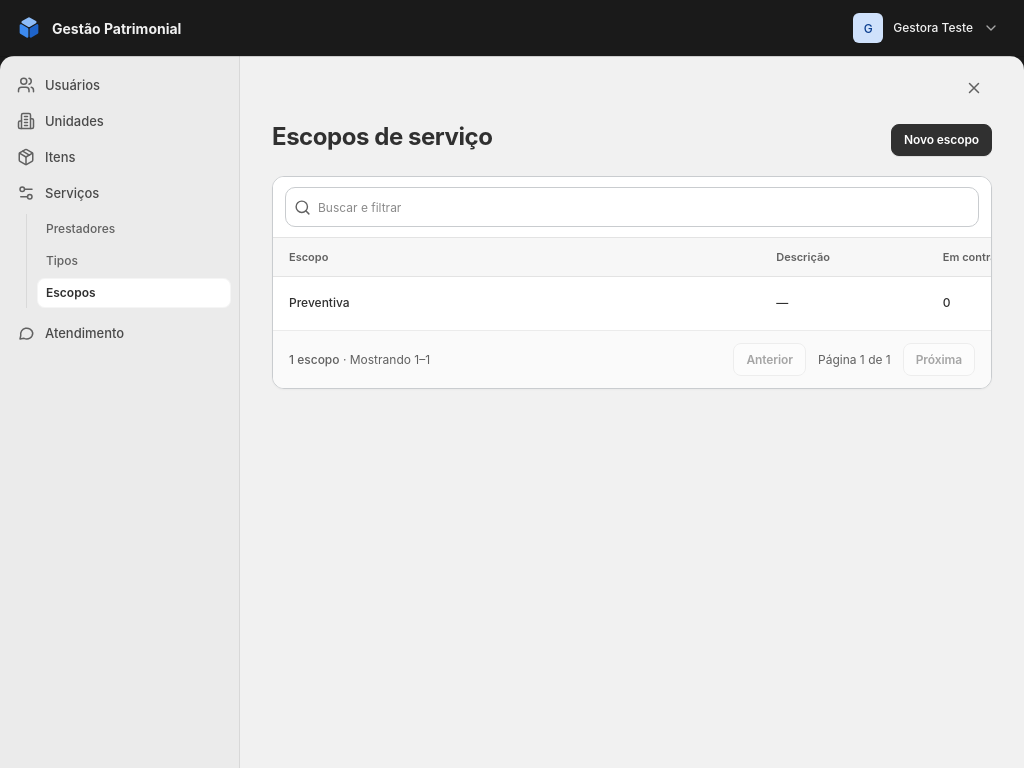
Prestadores de serviço e serviços de contrato › na lista de escopos, "Novo escopo" e o nome do escopo abrem as telas certas
This screenshot has width=1024, height=768.
Click the link with aria-label "Editar escopo Preventiva".
click(319, 303)  # box [289, 295, 350, 310]
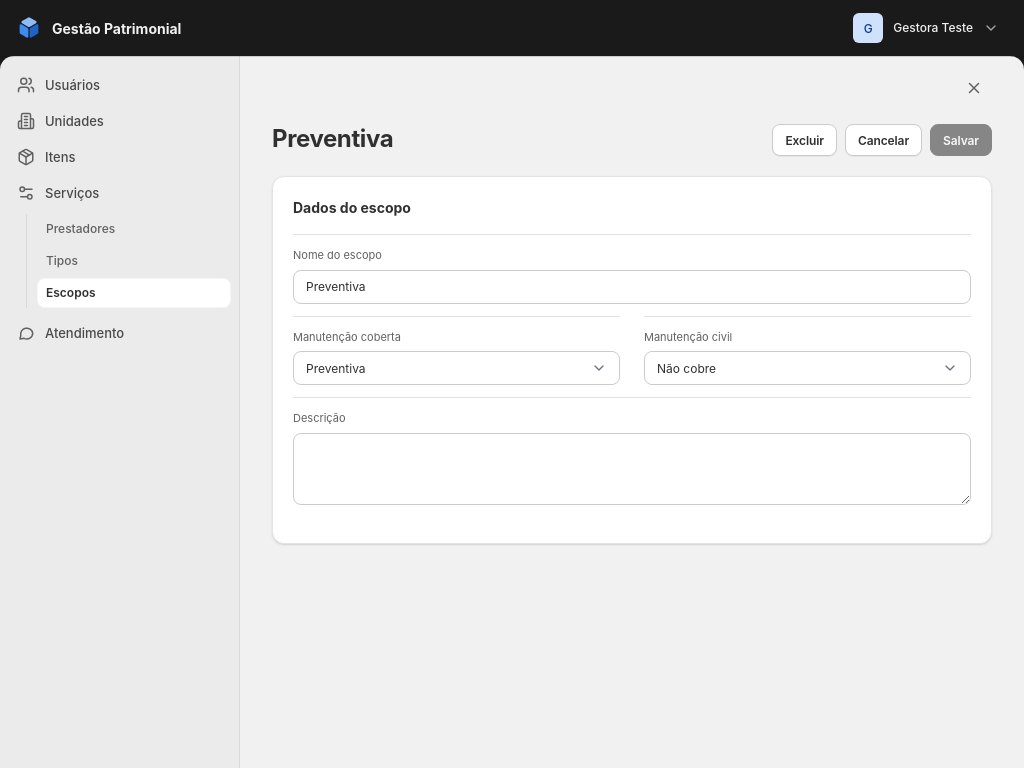
Now the field labelled "Nome do escopo" holds "Preventiva", box [293, 270, 971, 304]
